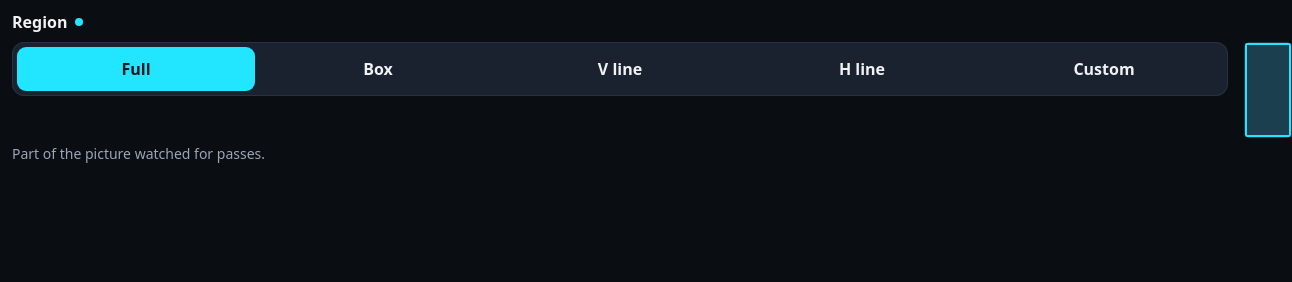
Scenario: SettingField › roi: presets, then custom values with the region error
The width and height of the screenshot is (1292, 282).
Click the button "Box".
click(378, 69)  # box [259, 47, 497, 91]
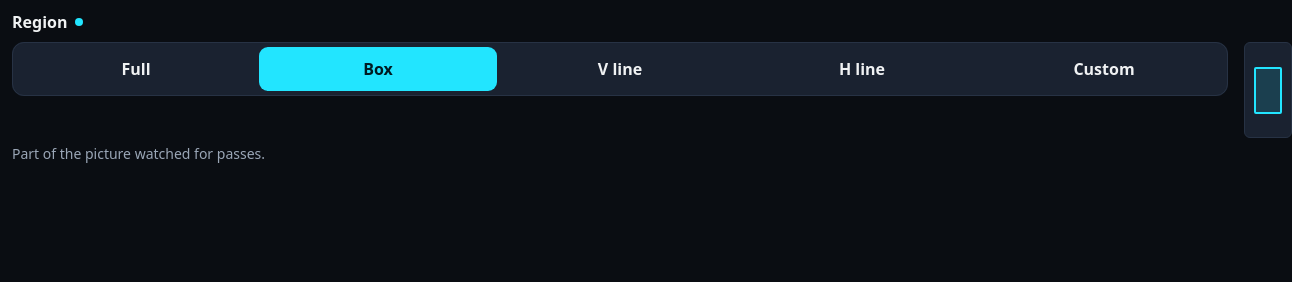
Click the button "Custom".
click(1104, 69)  # box [985, 47, 1223, 91]
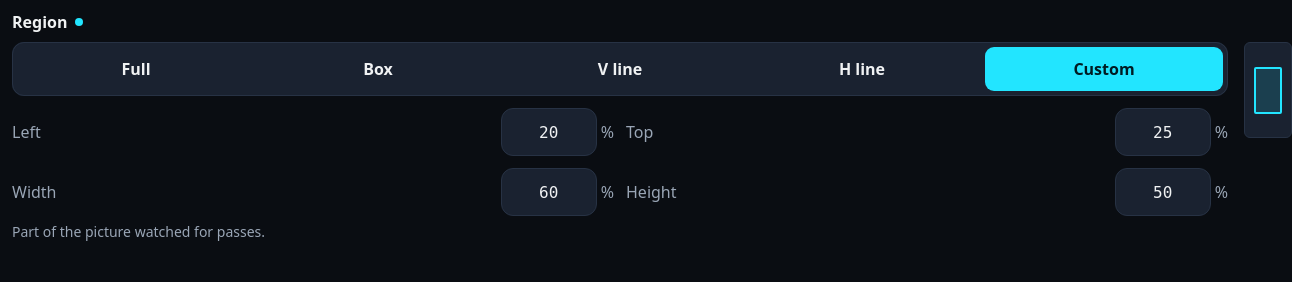
Replace the text in the field labelled "Width" with "90" at (549, 192), box [501, 168, 597, 216]
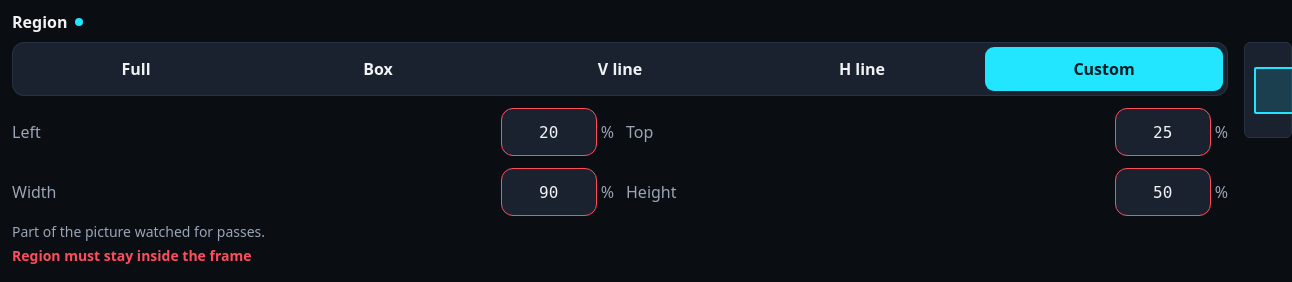
expect the text "Region must stay inside the frame" is shown: met, box [12, 246, 252, 265]
